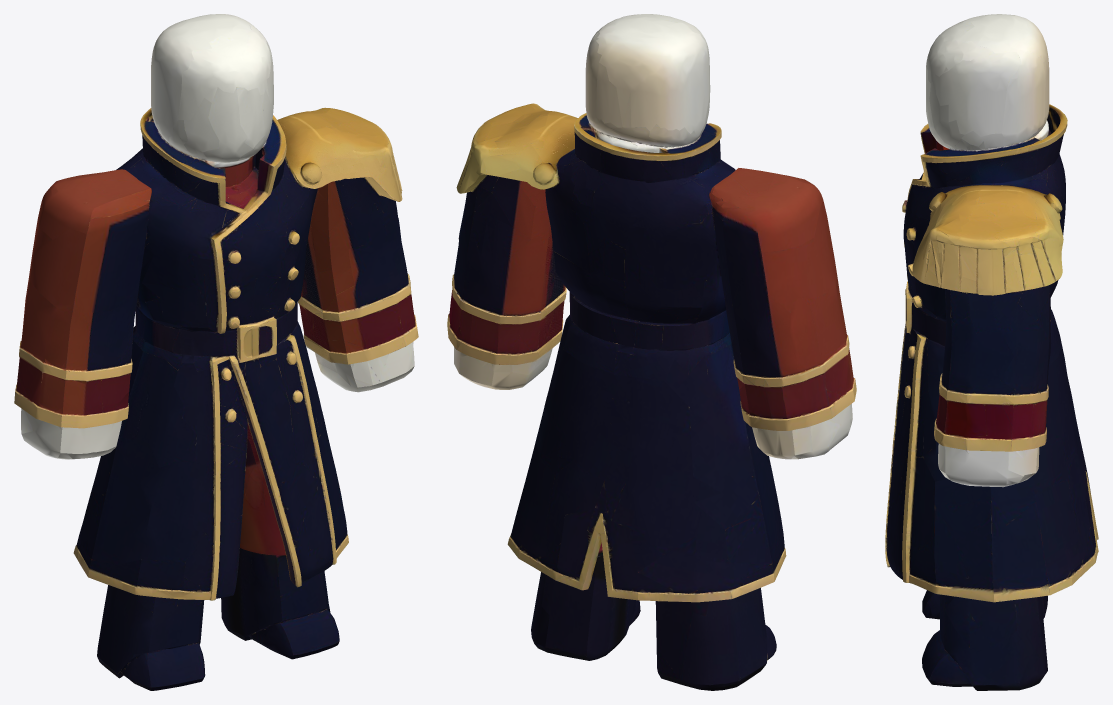
File: retroanime_commander.glb
3 views of the same model, side by side, from view 1: azimuth 30°, elevation 25°; view 2: azimuth 150°, elevation 25°; view 3: azimuth 270°, elevation 25° (orthographic). The views are drawn at different scales.
Bounding box in the file's own units: 1.22 × 1.9 × 0.5964.
1 material, 1 textured.
